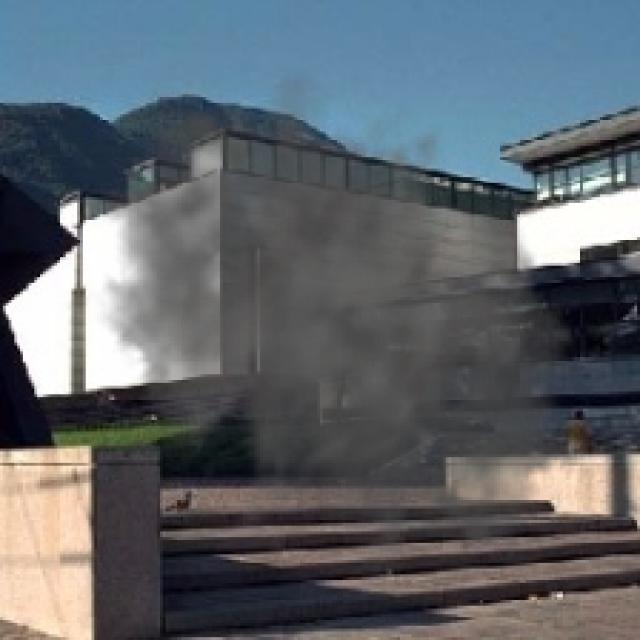smoke: (63, 69, 617, 588)
